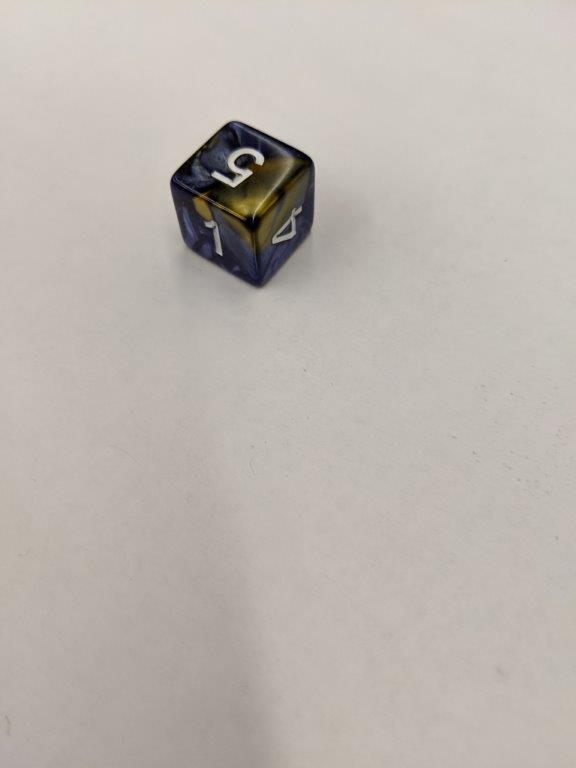d6-5: (170, 117, 315, 288)
